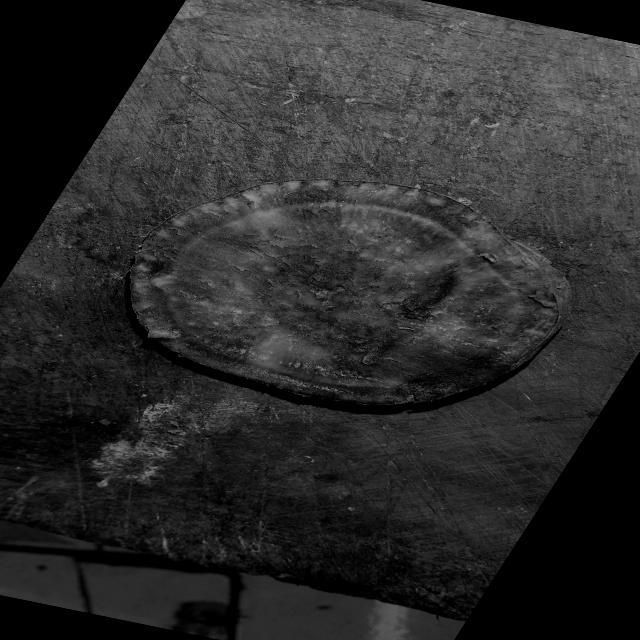Sick Sweet Potato_Tuber Rot: (131, 180, 571, 405)
